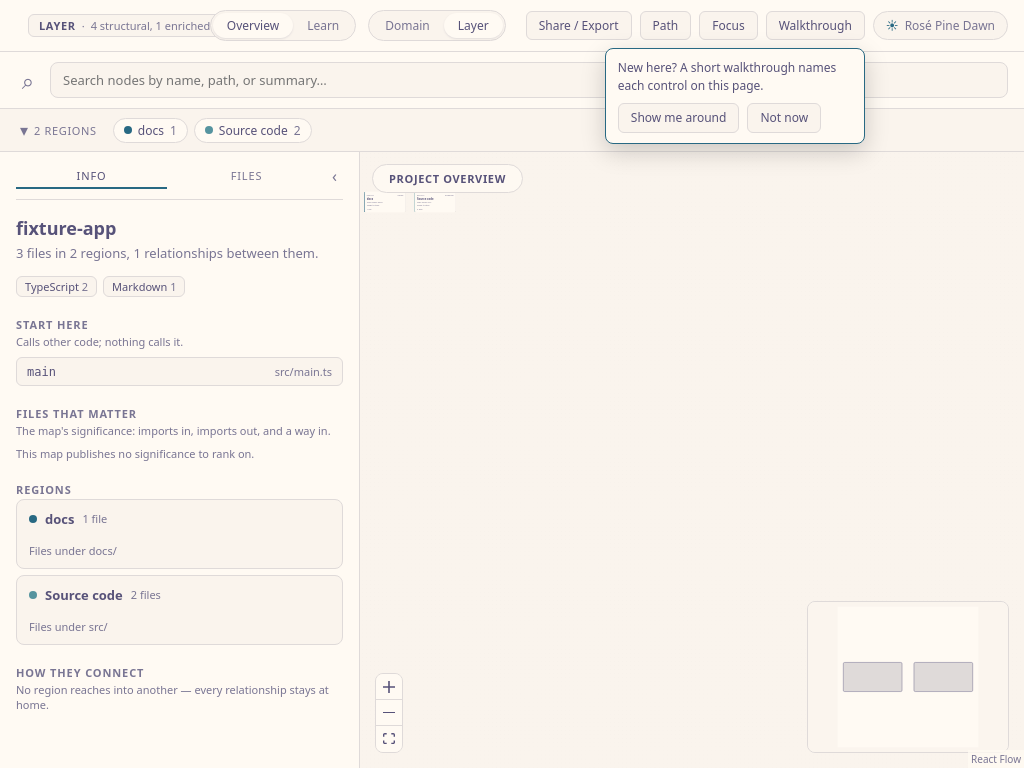
Test case: folding the side panel › takes the panel away and leaves the way back
expect the element with class "rightpanel" is shown: met, box [0,152,360,767]
Click the button named "Hide the side panel" at [334, 176], box [326,162,343,189]
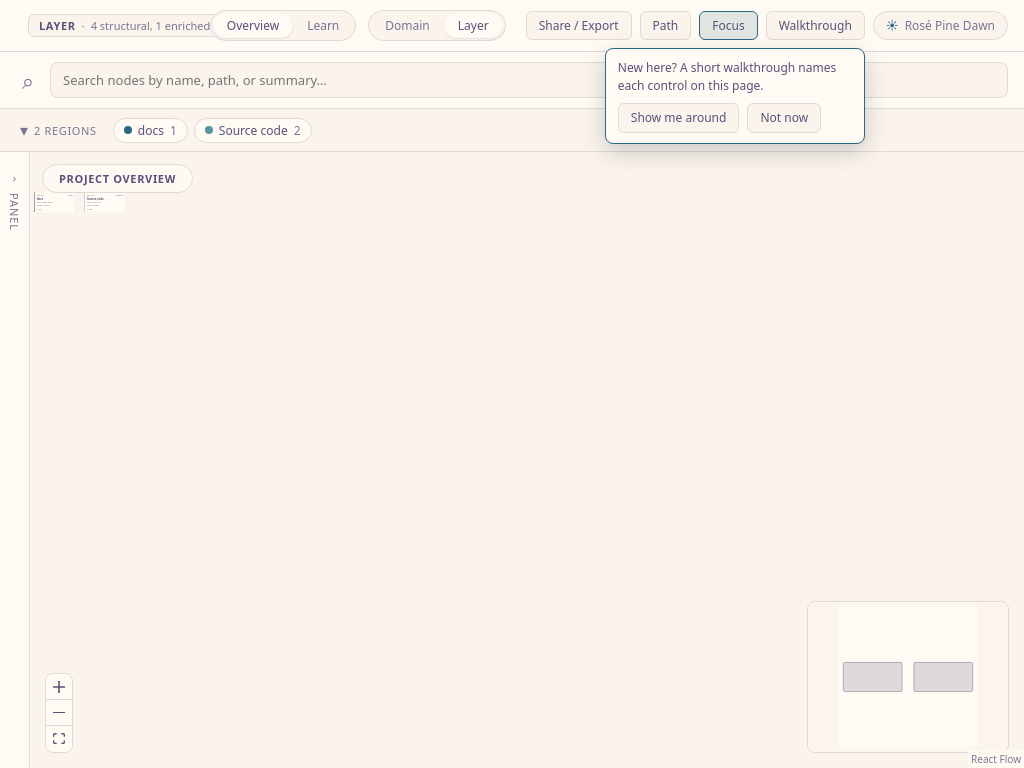
expect the element with class "rightpanel" is gone: met
expect the button "› Panel" is shown: met
Click the button "› Panel" at [14, 465], box [7,162,22,767]
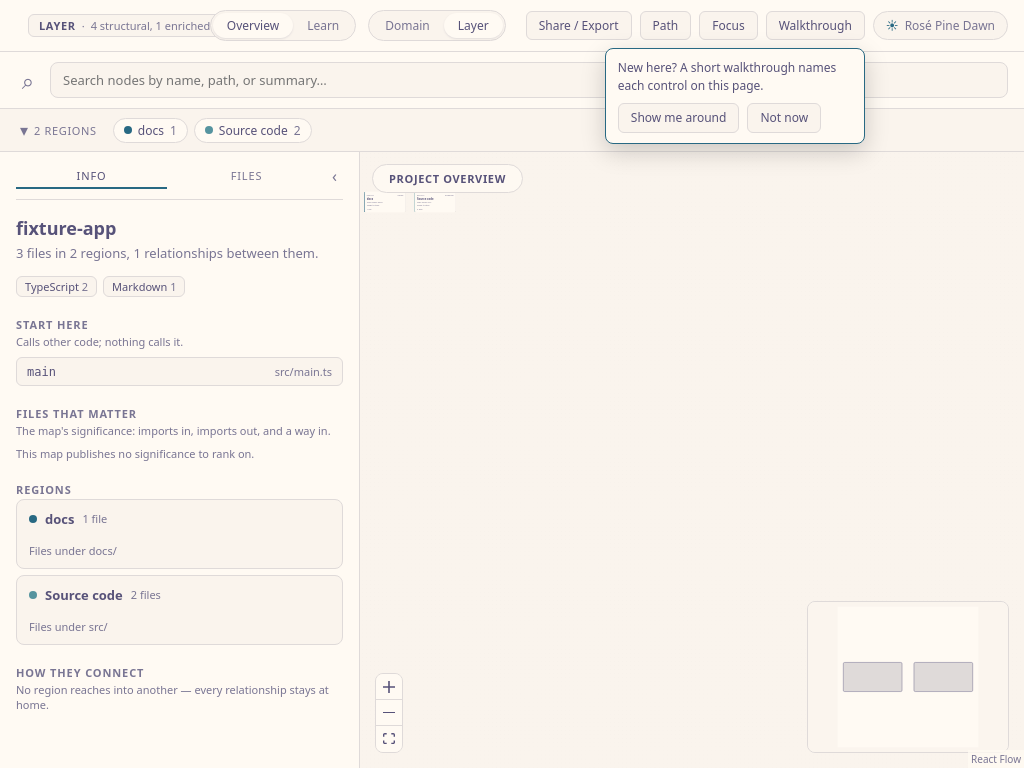
expect the element with class "rightpanel" is shown: met, box [0,152,360,767]
